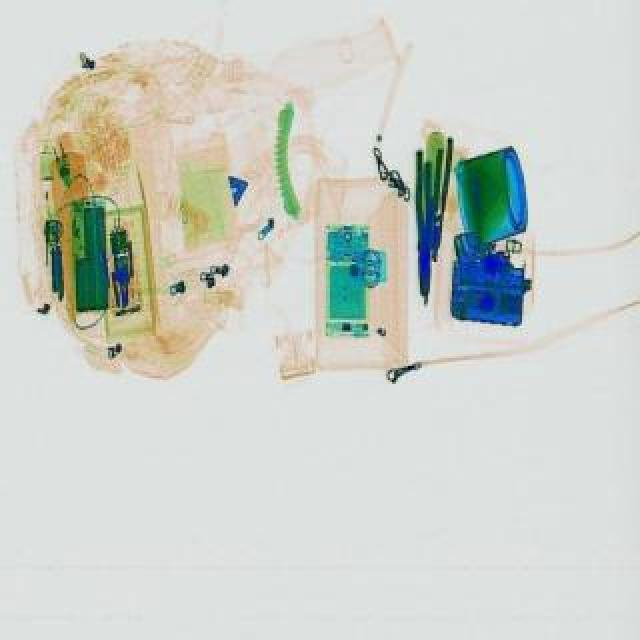wrench: (416, 154, 436, 300)
